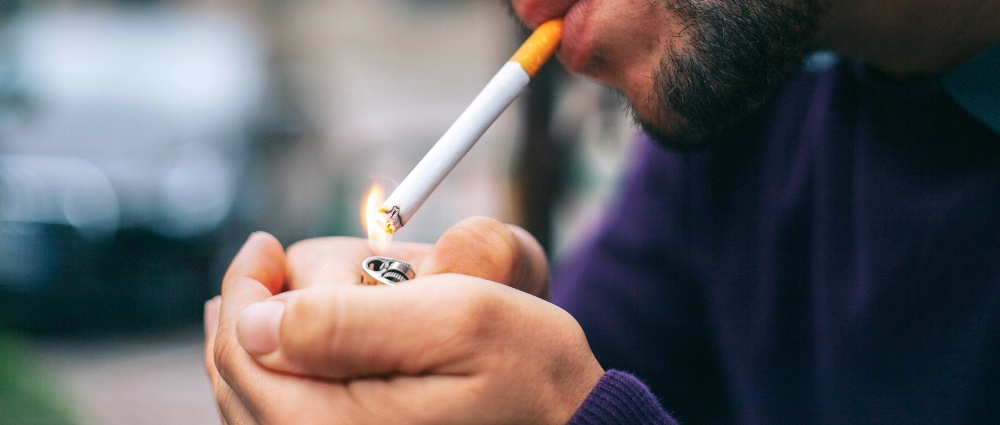sigaretta: (370, 15, 567, 234)
